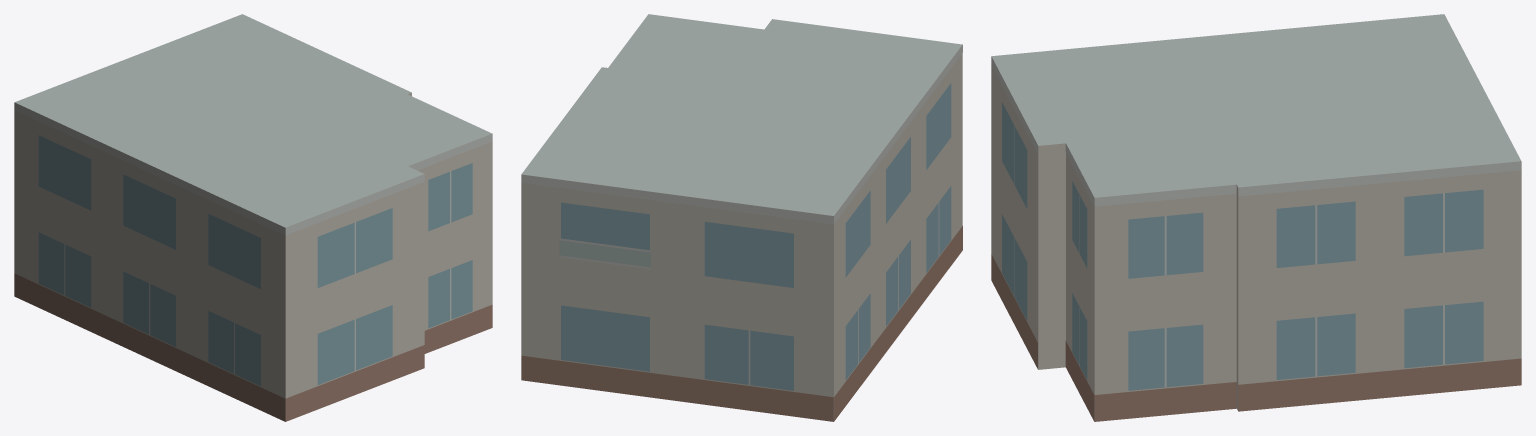
Rendered from survey-upis-32809608.glb.
3 views of the same model, side by side, from view 1: azimuth 30°, elevation 25°; view 2: azimuth 150°, elevation 25°; view 3: azimuth 270°, elevation 25° (orthographic). The views are drawn at different scales.
Visible parts, largest first — view 1: survey-upis-32809608.tmp; view 2: survey-upis-32809608.tmp; view 3: survey-upis-32809608.tmp.
Part boxes in pixels (bbox=[...]): survey-upis-32809608.tmp: bbox=[14, 14, 492, 421]; survey-upis-32809608.tmp: bbox=[521, 14, 962, 421]; survey-upis-32809608.tmp: bbox=[991, 14, 1521, 421].
Bounding box in the file's own units: 10.75 × 6.1 × 13.1.
